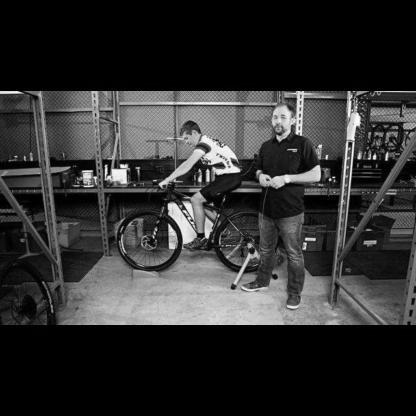Bicycle: (102, 165, 283, 296)
